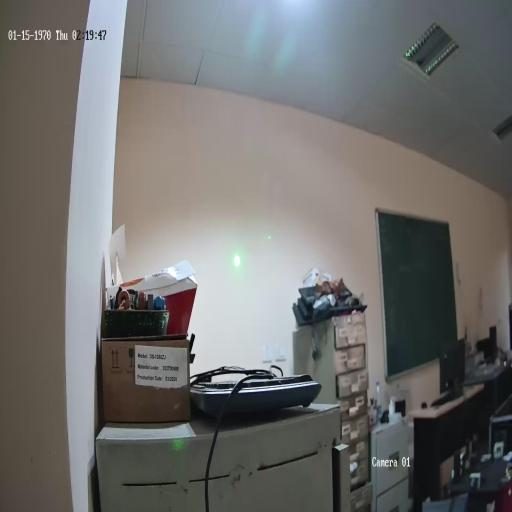laser: (232, 253, 242, 271)
